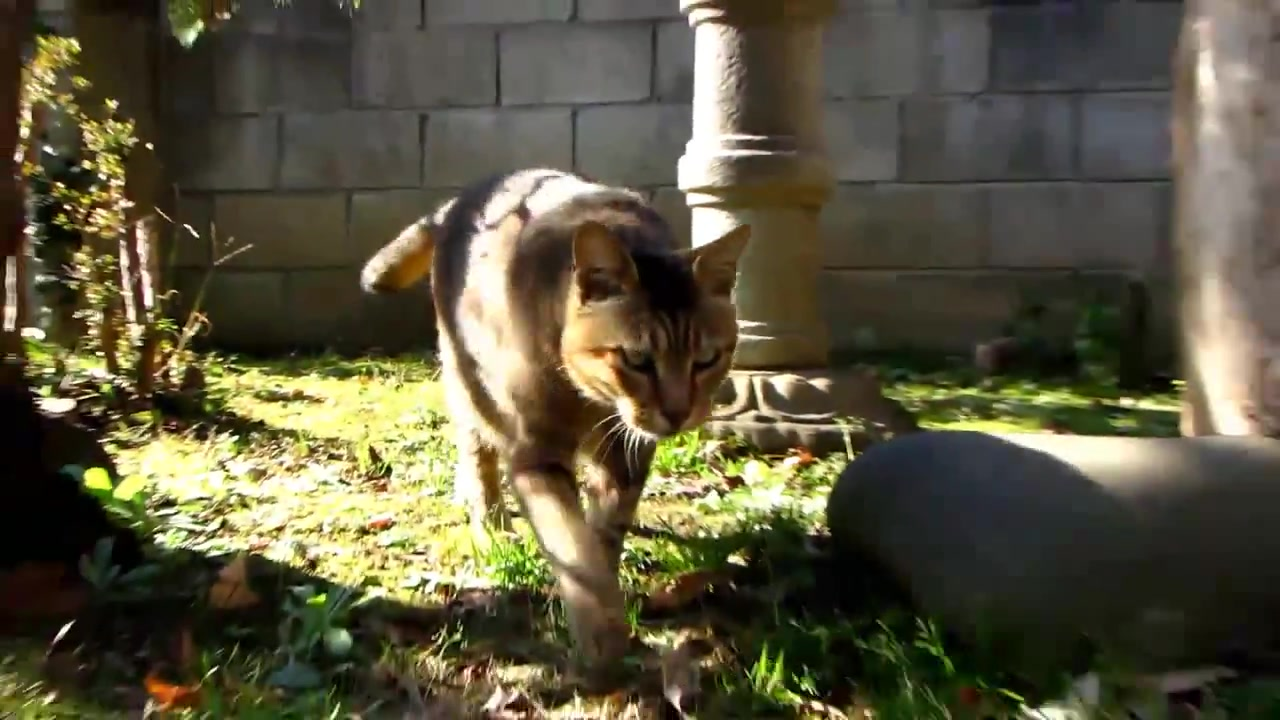cat: (359, 164, 756, 684)
